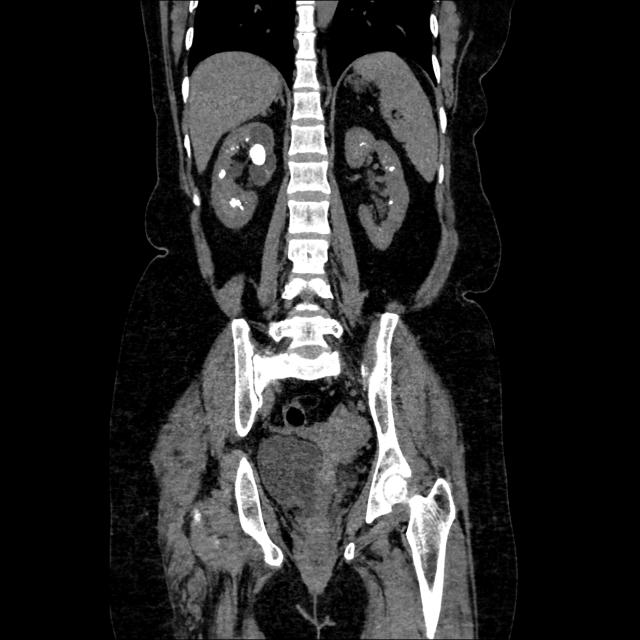kidney: (342, 126, 408, 256), (210, 118, 280, 233)
stone: (246, 144, 270, 168), (227, 195, 246, 212), (216, 168, 230, 181)
